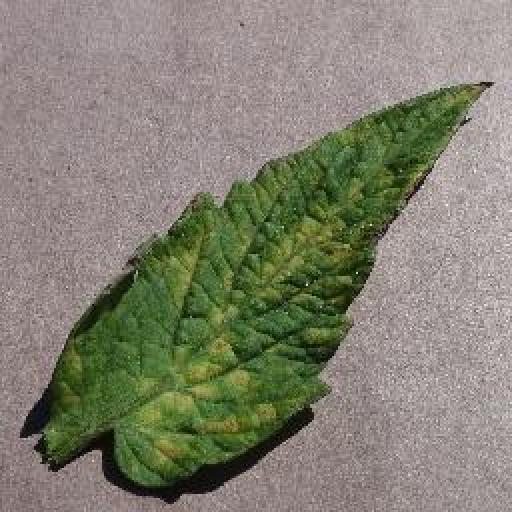Leaf Mold: (38, 80, 489, 487)
